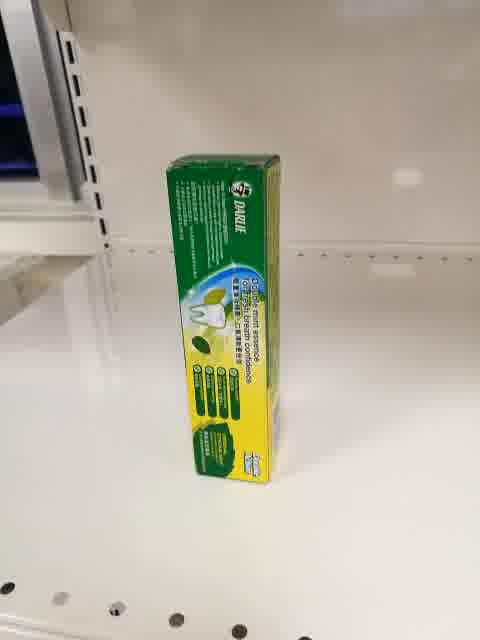toothpaste: (165, 152, 281, 484)
